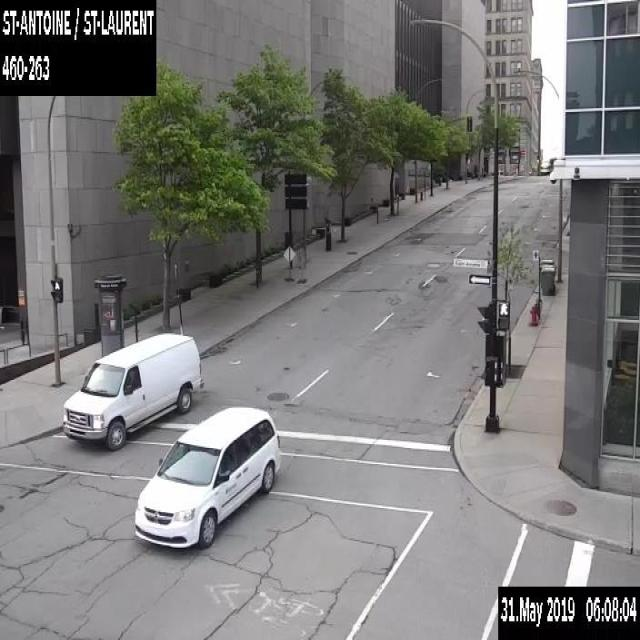construction: (283, 244, 296, 281), (296, 248, 307, 282)
vehicle: (132, 403, 281, 548), (60, 329, 203, 448), (538, 158, 550, 174)
